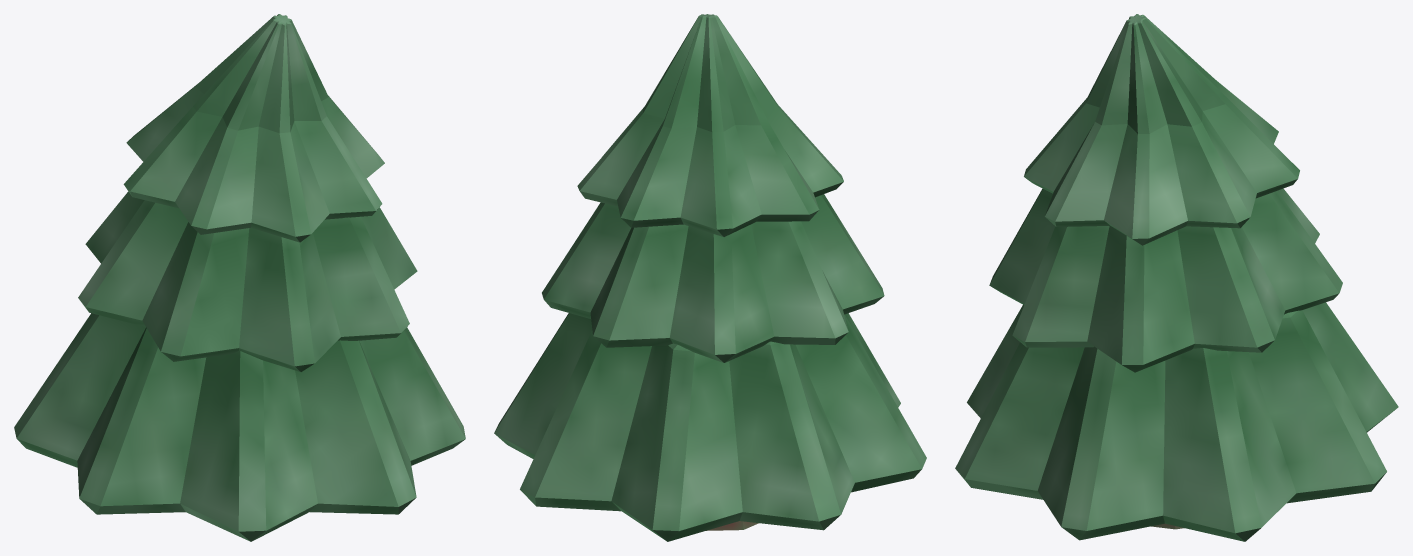
Rendered from tree_pinesmall.fbx.
The picture shows the model from 3 angles, left to right: view 1: azimuth 30°, elevation 25°; view 2: azimuth 150°, elevation 25°; view 3: azimuth 270°, elevation 25°; orthographic projection. The views are drawn at different scales.
Parts seen in each view (by area): view 1: group4, group4_1, group4_2; view 2: group4, group4_1, group4_2; view 3: group4, group4_1, group4_2.
Part boxes in pixels (box(x1,y1,x2,y2)): group4: box(14, 313, 465, 541); group4_1: box(78, 191, 417, 371); group4_2: box(123, 14, 384, 242); group4: box(494, 313, 926, 541); group4_1: box(542, 194, 884, 362); group4_2: box(577, 14, 843, 236); group4: box(955, 302, 1398, 541); group4_1: box(989, 188, 1342, 372); group4_2: box(1024, 14, 1299, 245).
Bounding box in the file's own units: 107 × 130 × 107.
Materials: 1 (1 with a texture image).
